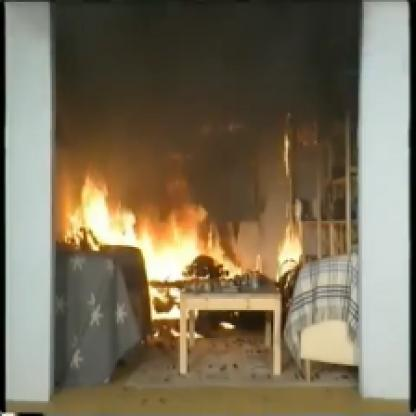fire: (64, 186, 239, 299), (271, 127, 310, 289)
